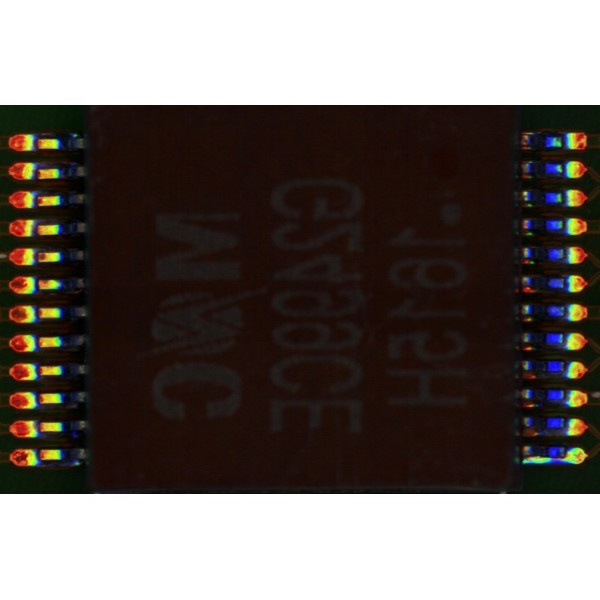Bad_qiaojiao: (524, 456, 569, 466)
